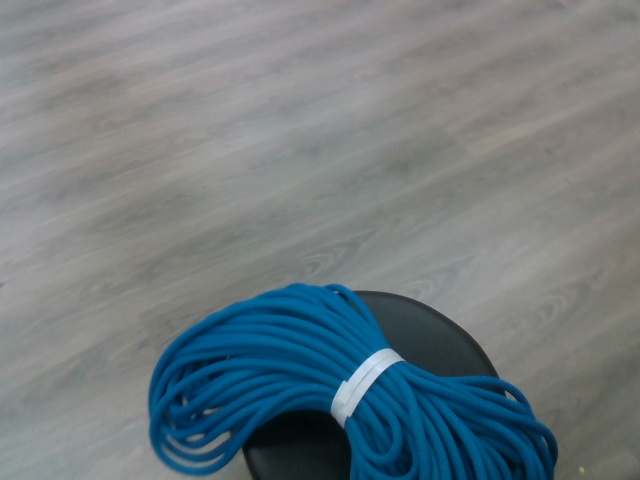rope: (145, 280, 564, 480)
